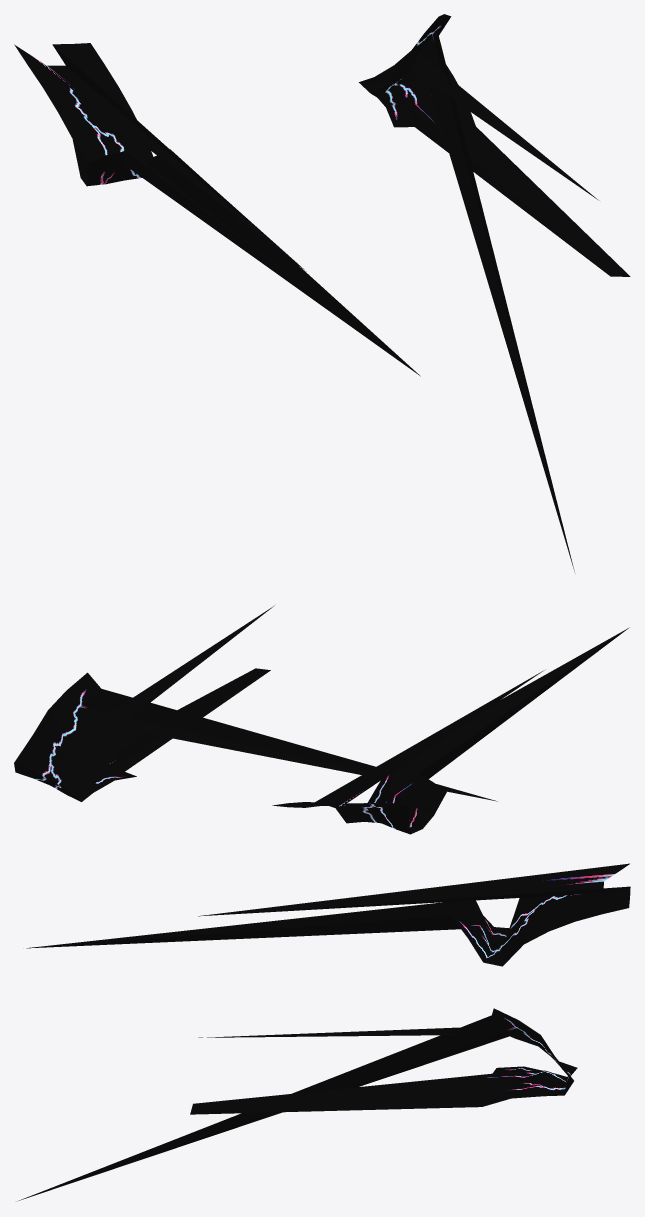
Rendered from lightning.glb.
3 views of the same model, one above another, from view 1: azimuth 30°, elevation 25°; view 2: azimuth 150°, elevation 25°; view 3: azimuth 270°, elevation 25° (orthographic). The views are drawn at different scales.
Visible parts, largest first — view 1: oppm_lightning; view 2: oppm_lightning; view 3: oppm_lightning.
Boxes of the visible parts, bbox=[...] form: oppm_lightning: bbox=[14, 14, 630, 572]; oppm_lightning: bbox=[14, 605, 629, 834]; oppm_lightning: bbox=[17, 863, 630, 1201].
Bounding box in the file's own units: 13638 × 9777 × 20987.
Materials: 2 (2 with a texture image).
